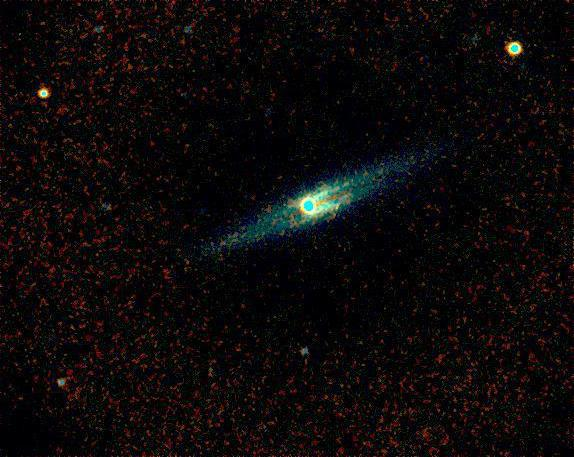star: (323, 194, 353, 224)
